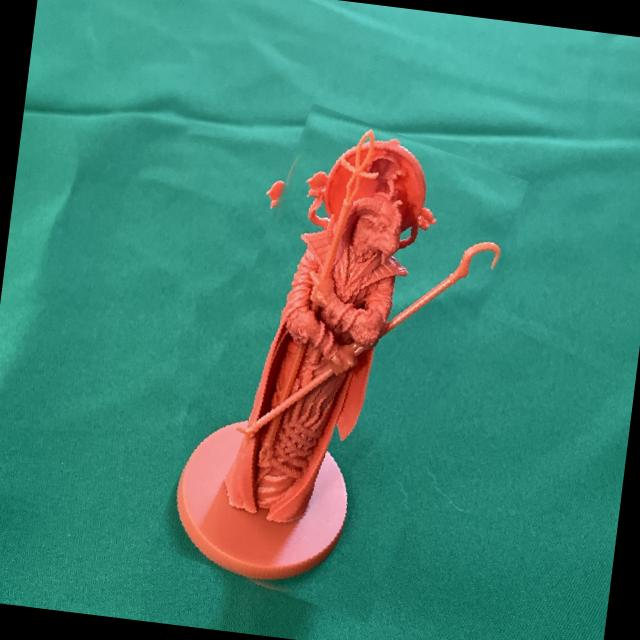amon: (171, 102, 509, 624)
